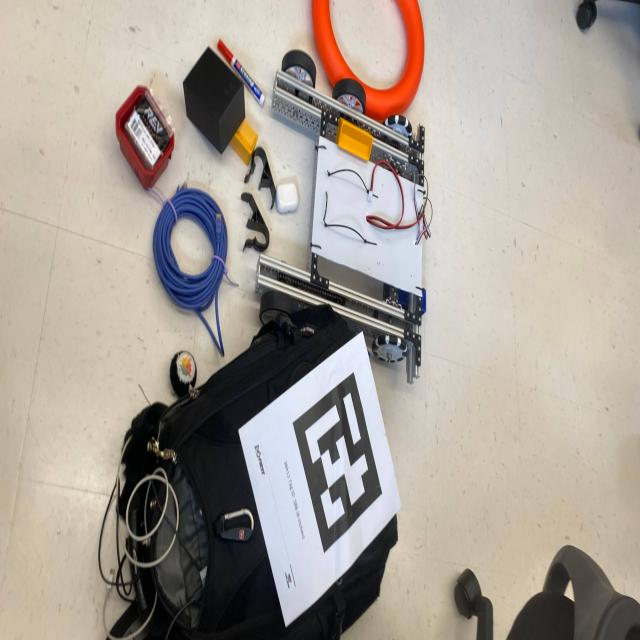blue-specimen: (413, 288, 426, 316), (398, 290, 411, 312)
yellow-specimen: (336, 118, 375, 161), (229, 119, 258, 165)
